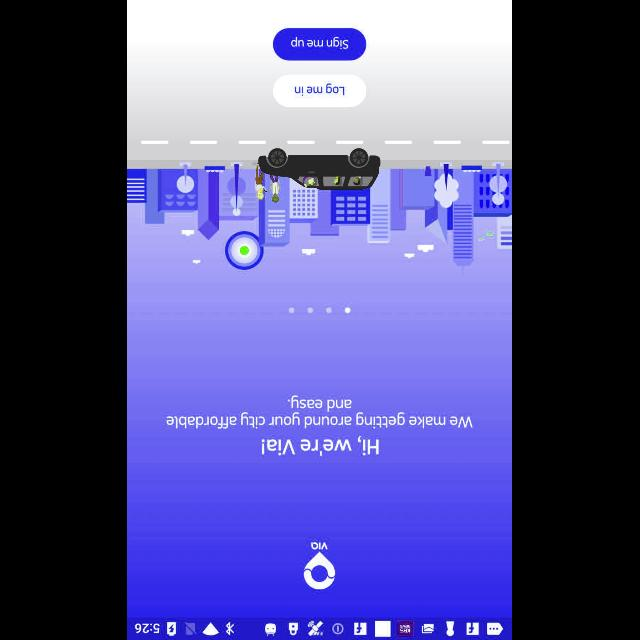image: (128, 138, 512, 272), (304, 541, 336, 589)
pageindicator: (288, 306, 352, 314)
text: (166, 395, 474, 429), (262, 436, 380, 456)
textbutton: (274, 74, 366, 108), (274, 28, 366, 60)
uppertaskbar: (128, 617, 512, 639)
